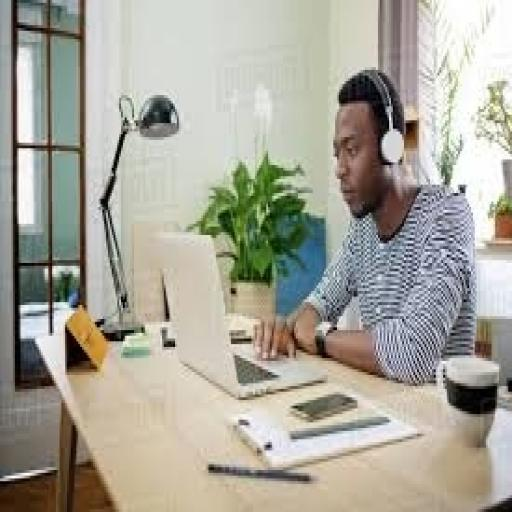listening_to_music: (250, 64, 480, 389)
